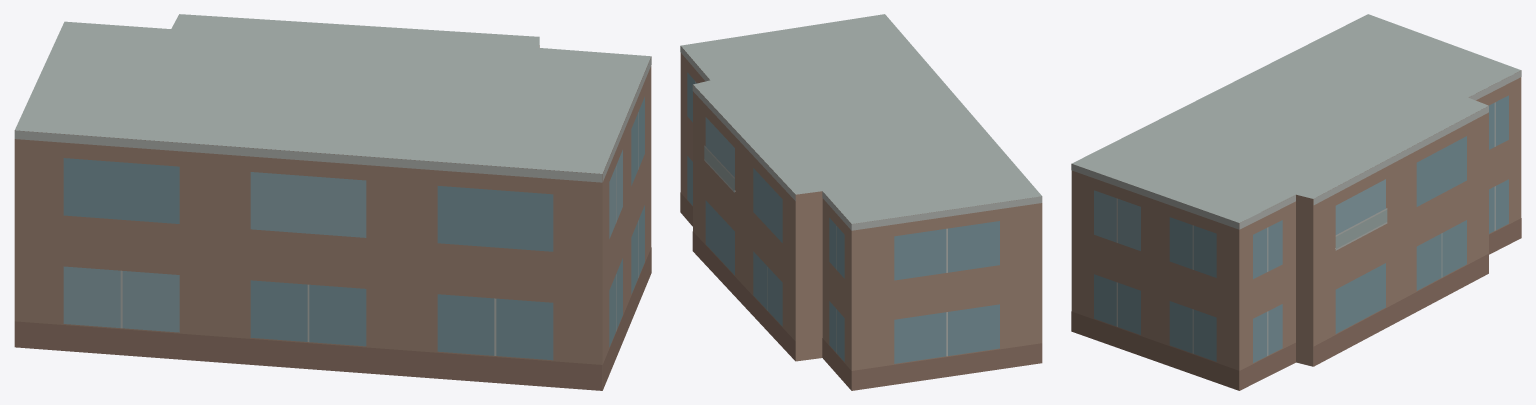
File: survey-upis-32673036.glb
The picture shows the model from 3 angles, left to right: view 1: azimuth 30°, elevation 25°; view 2: azimuth 150°, elevation 25°; view 3: azimuth 270°, elevation 25°; orthographic projection. The views are drawn at different scales.
Parts seen in each view (by area): view 1: survey-upis-32673036.tmp; view 2: survey-upis-32673036.tmp; view 3: survey-upis-32673036.tmp.
Boxes of the visible parts, <box> form: survey-upis-32673036.tmp: <box>14,14,651,390</box>; survey-upis-32673036.tmp: <box>680,14,1042,390</box>; survey-upis-32673036.tmp: <box>1071,14,1521,390</box>.
Size of the model in its own units: 16.3 by 6.1 by 14.83.
